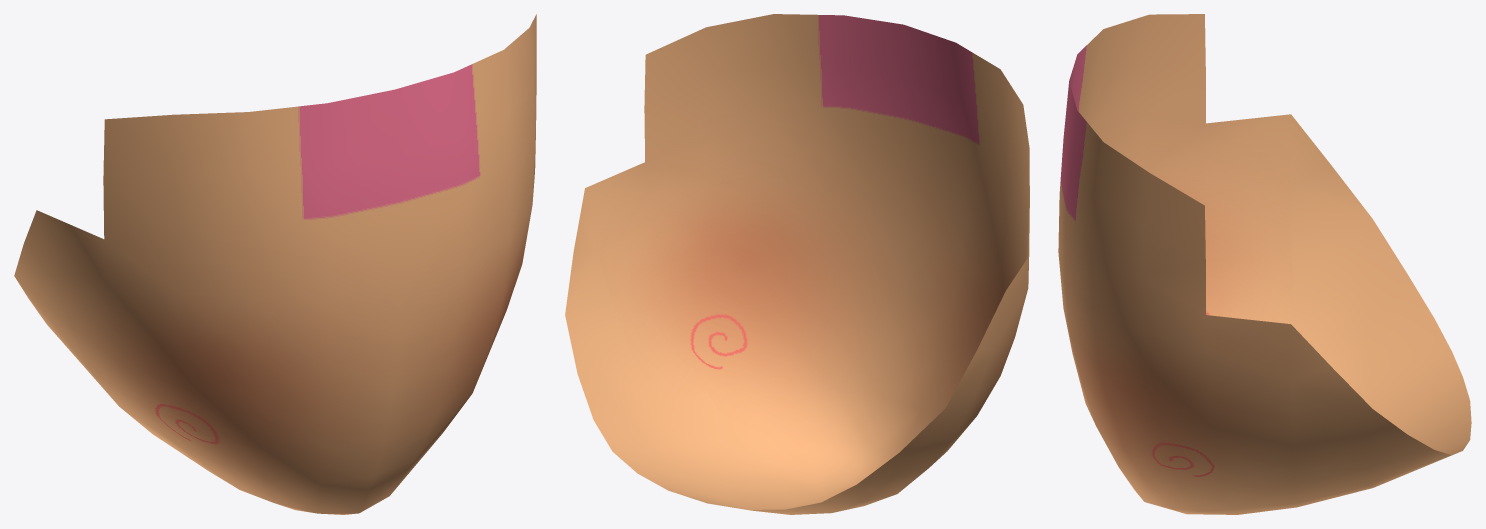
Rendered from Faceline_0.glb.
3 renders of one model, left to right at view 1: azimuth 30°, elevation 25°; view 2: azimuth 150°, elevation 25°; view 3: azimuth 270°, elevation 25°, orthographic. The views are drawn at different scales.
Visible parts, largest first — view 1: Head00; view 2: Head00; view 3: Head00.
Part boxes in pixels (box(x1,y1,x2,y2)): Head00: box(14, 14, 536, 514); Head00: box(565, 14, 1029, 514); Head00: box(1058, 14, 1471, 514).
Bounding box in the file's own units: 52.6 × 49.57 × 43.75.
Materials: 1 (1 with a texture image).
